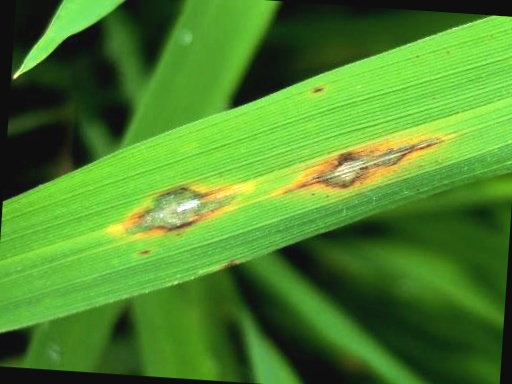Brown_Spot: (301, 124, 456, 195), (121, 172, 248, 224)
